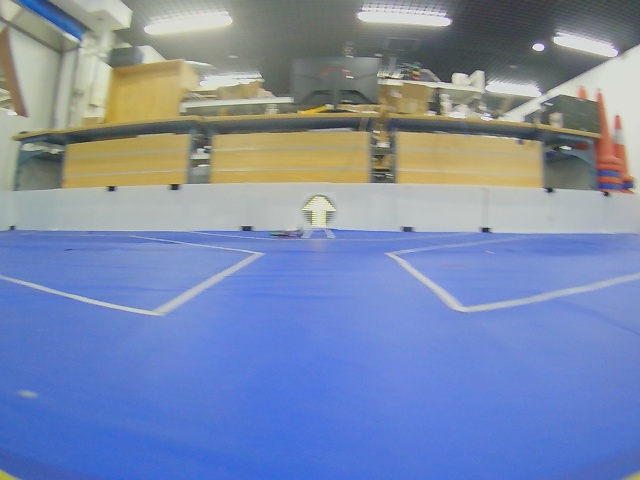straight_yellow: (303, 195, 336, 228)
